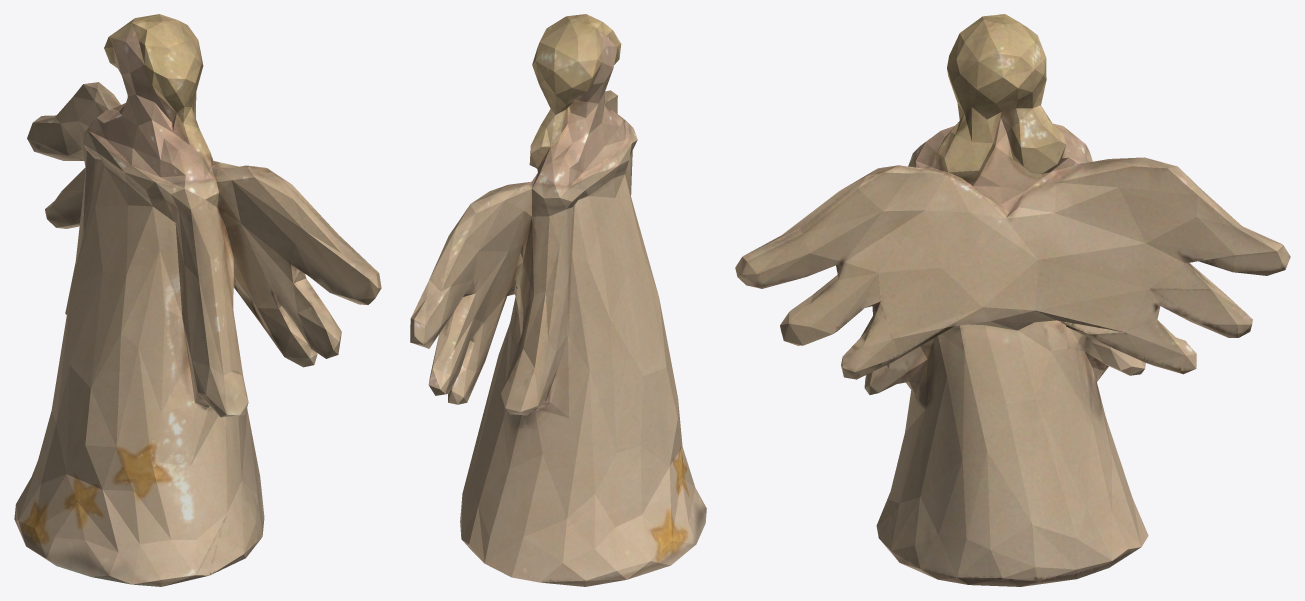
The model's file is A4590F64-2069-A649-B305-ECC4D433FB87_512.glb.
The picture shows the model from 3 angles, left to right: view 1: azimuth 30°, elevation 25°; view 2: azimuth 150°, elevation 25°; view 3: azimuth 270°, elevation 25°; orthographic projection. The views are drawn at different scales.
Visible parts, largest first — view 1: Engel_1k_0.5k; view 2: Engel_1k_0.5k; view 3: Engel_1k_0.5k.
Boxes of the visible parts, x1,y1,x2,y2 form: Engel_1k_0.5k: (14, 14, 381, 586); Engel_1k_0.5k: (410, 14, 706, 586); Engel_1k_0.5k: (735, 14, 1290, 586).
Size of the model in its own units: 0.0818 by 0.1898 by 0.1819.
1 material, 1 textured.
